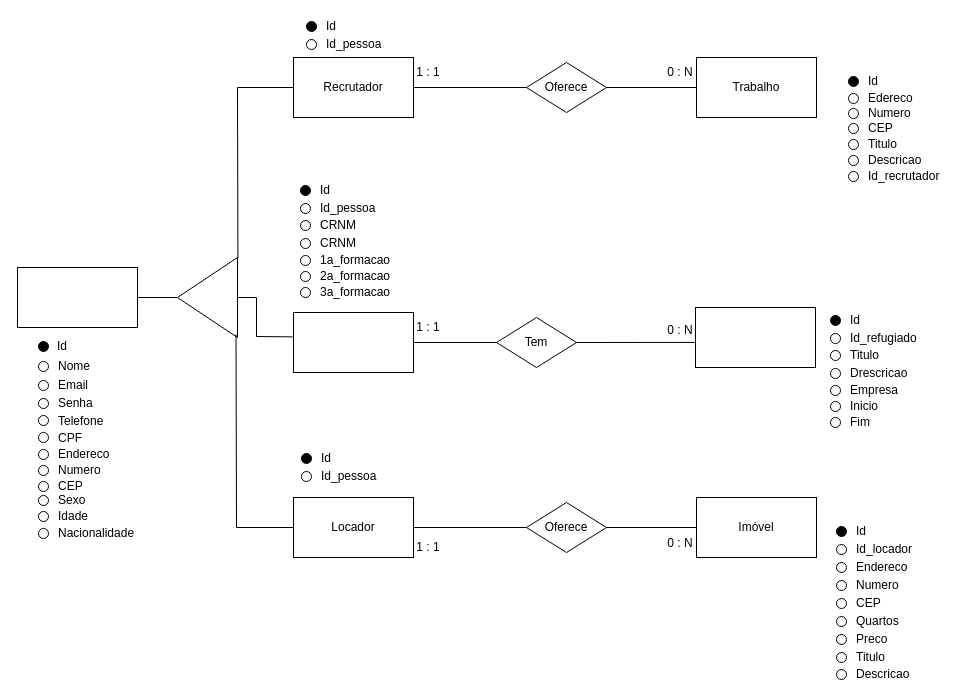
Some shapes in this 957 by 700 pixel diagram are drawn without their labels. The shapes that lost their labels are listed below. From the top down, each one's box as (x1, y1, x2, y2) in pixels, then its label:
(16, 266, 138, 328): Pessoa
(292, 312, 414, 372): Refugiado
(694, 306, 816, 368): Experiência profissional
